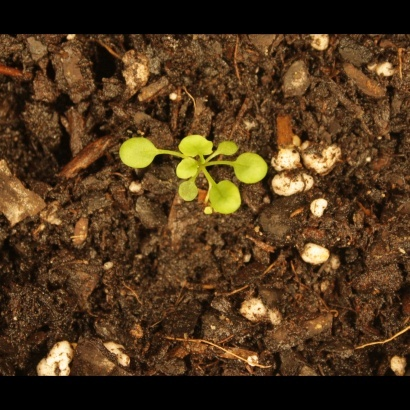leaf: (119, 136, 160, 170), (235, 149, 271, 187), (208, 182, 243, 217), (179, 133, 214, 159), (173, 179, 201, 211), (175, 158, 201, 182), (216, 137, 240, 160)
